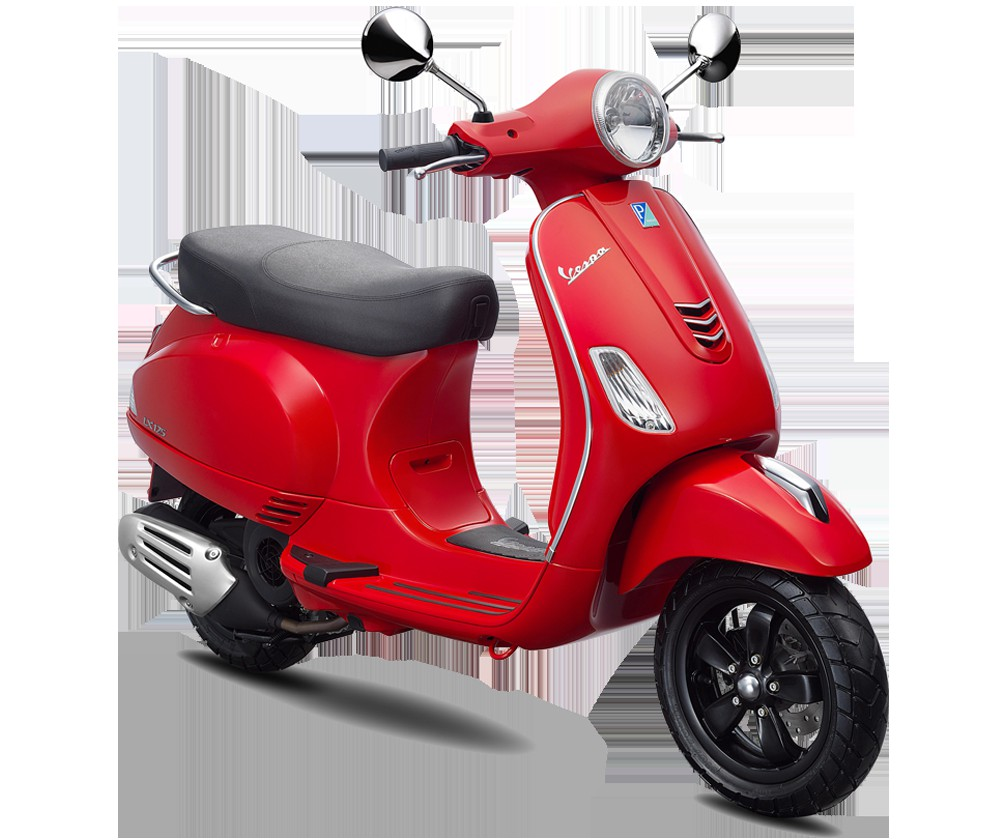motorcycle: (127, 67, 890, 810)
